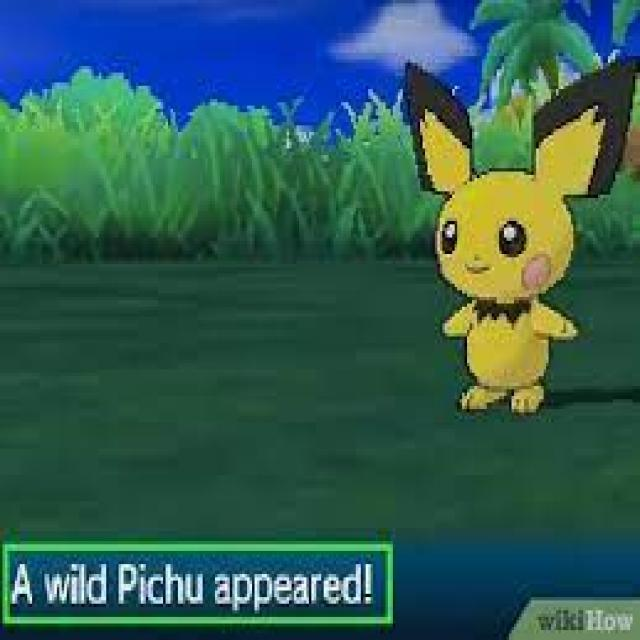pichu: (396, 37, 639, 434)
